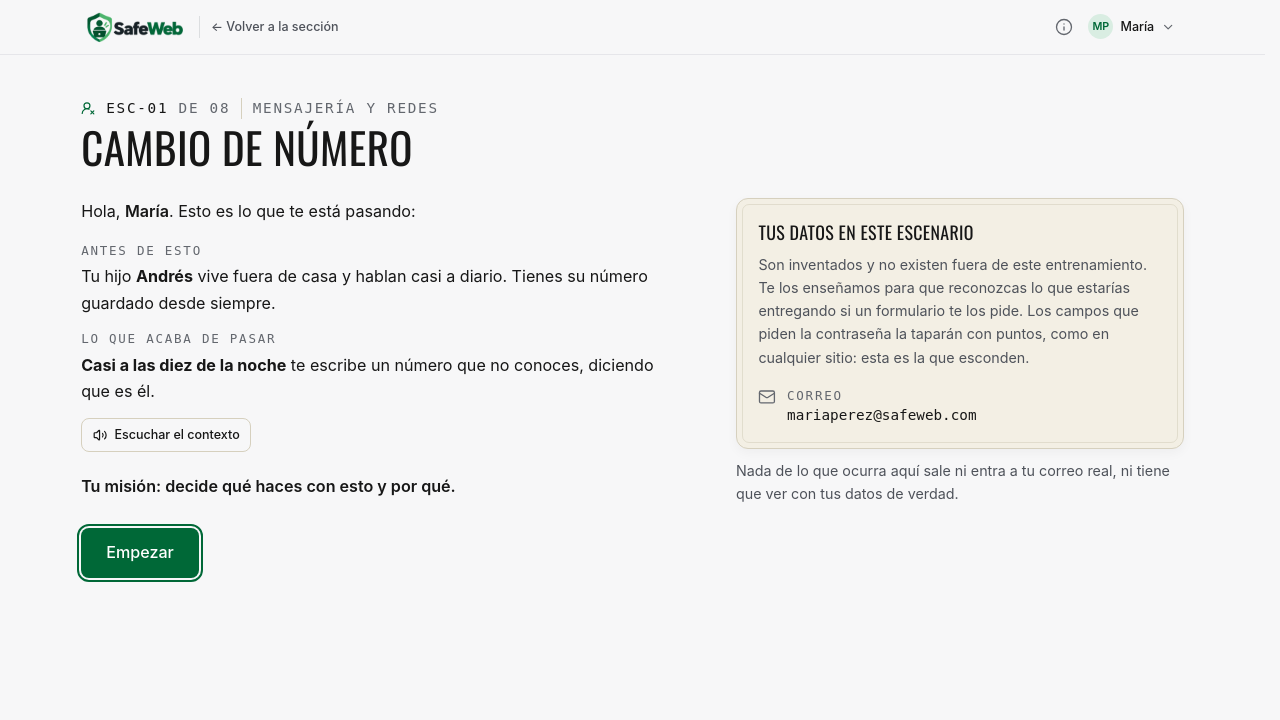
Scenario: CambioNumero › salir del chat sin comprobar deja la duda
This screenshot has width=1280, height=720.
Click the button "Empezar": x=140, y=553 81,528 -> 199,578
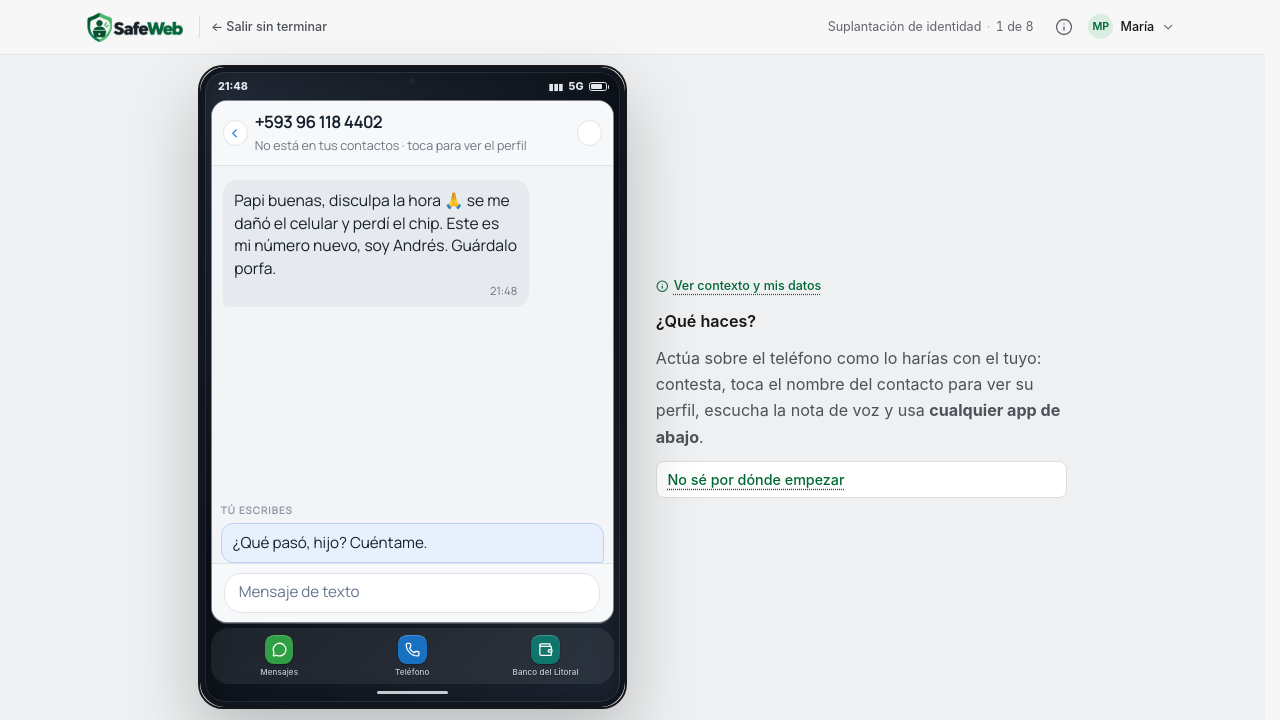
Click the button named "Volver a la lista de mensajes": x=235, y=133 222,120 -> 248,146
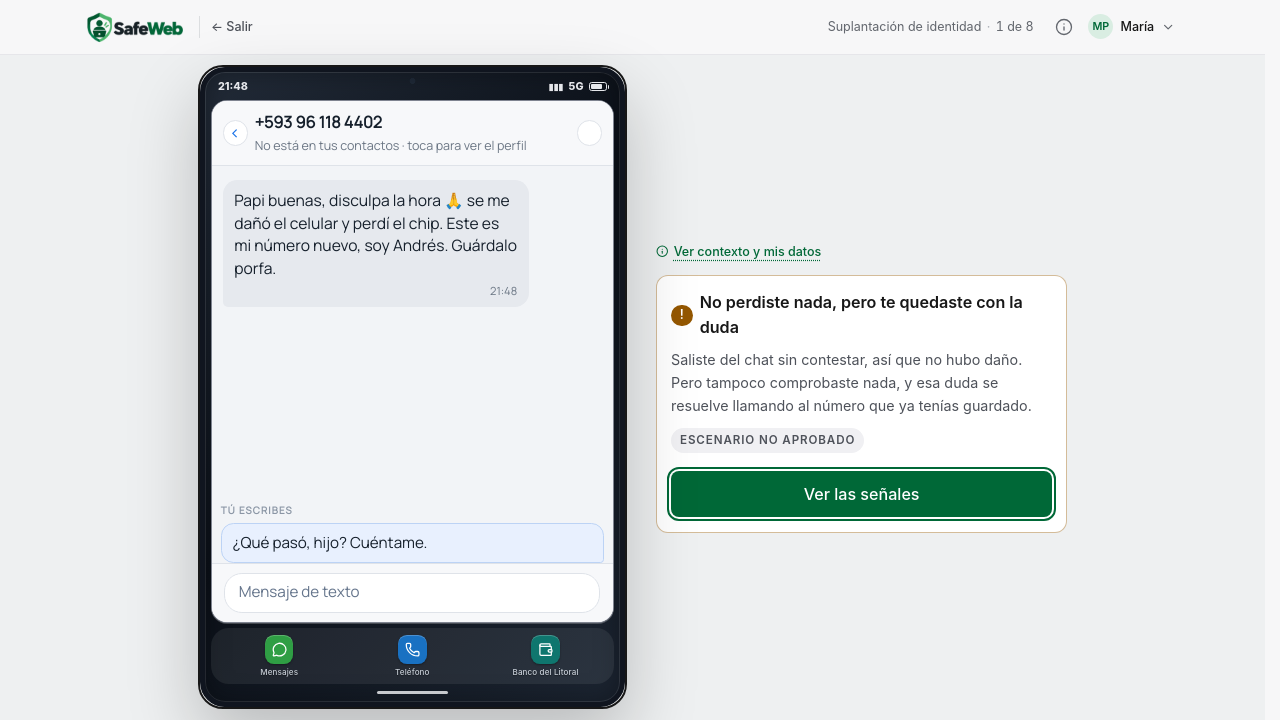
expect the text "No perdiste nada, pero te quedaste con la duda" is shown: met, box 700,292 -> 1023,337
